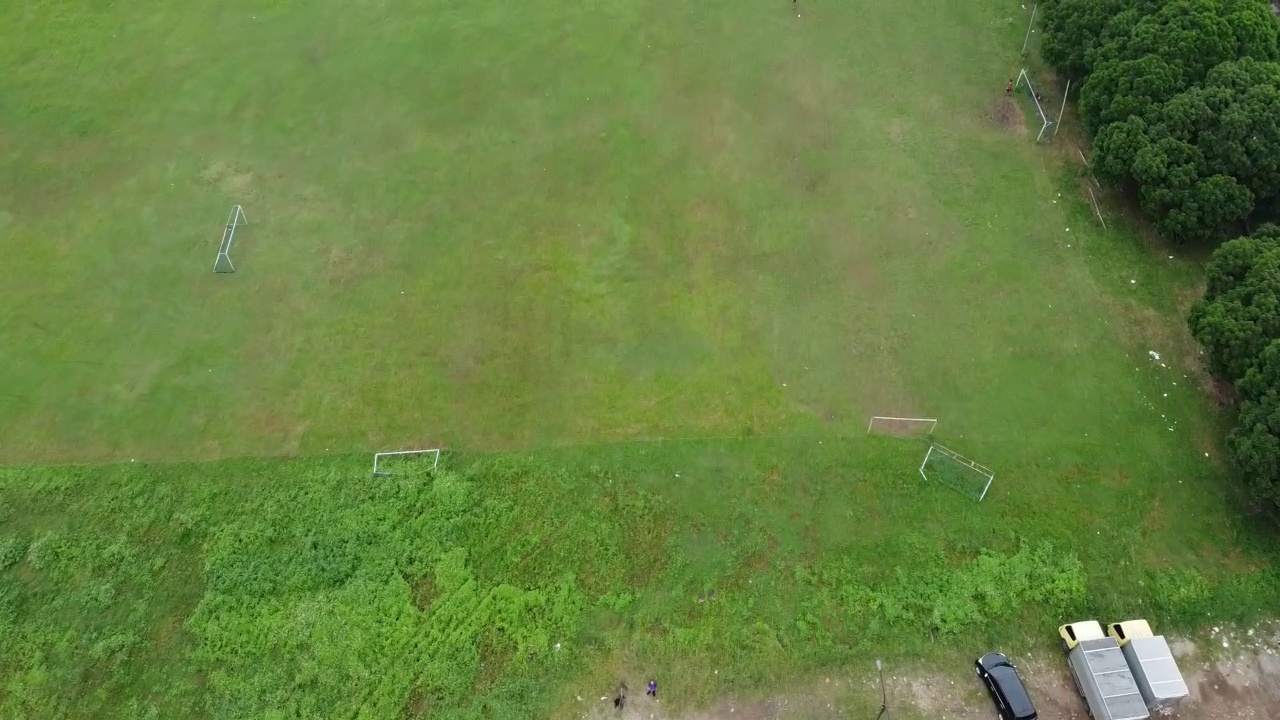mobil: (971, 643, 1039, 720)
